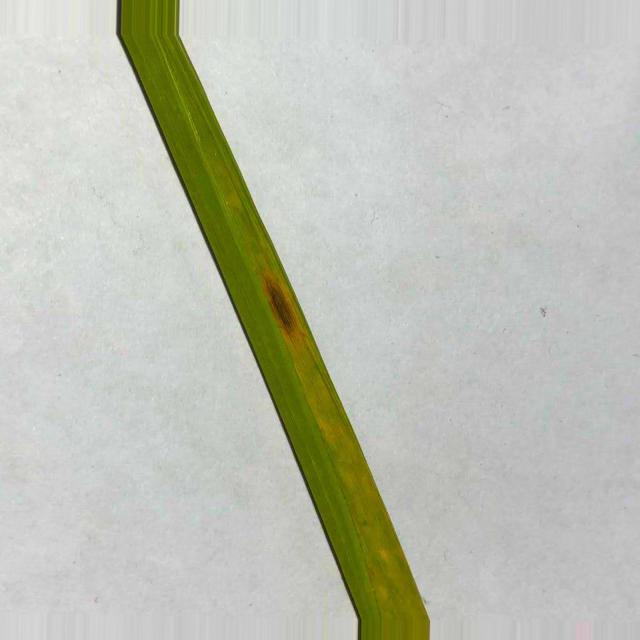Brown_Spot: (264, 279, 309, 334)
